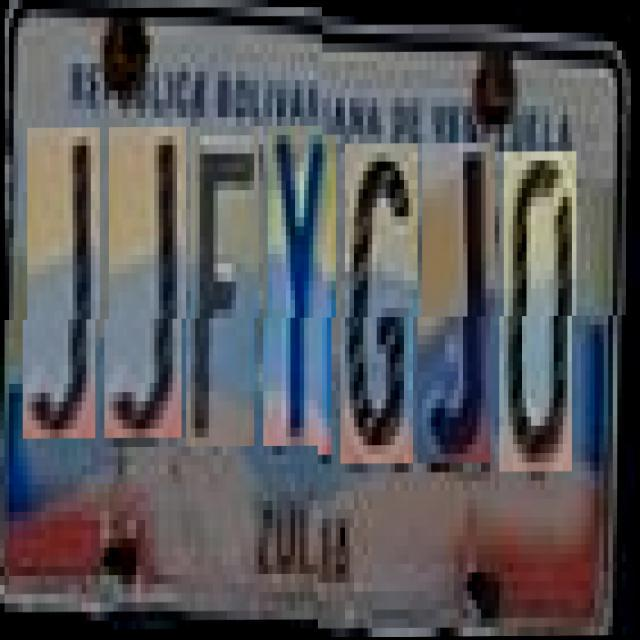0: (504, 152, 576, 472)
F: (190, 136, 258, 456)
G: (345, 144, 418, 464)
J: (109, 136, 186, 447), (422, 144, 495, 464), (27, 136, 100, 448)
Y: (268, 135, 336, 455)
